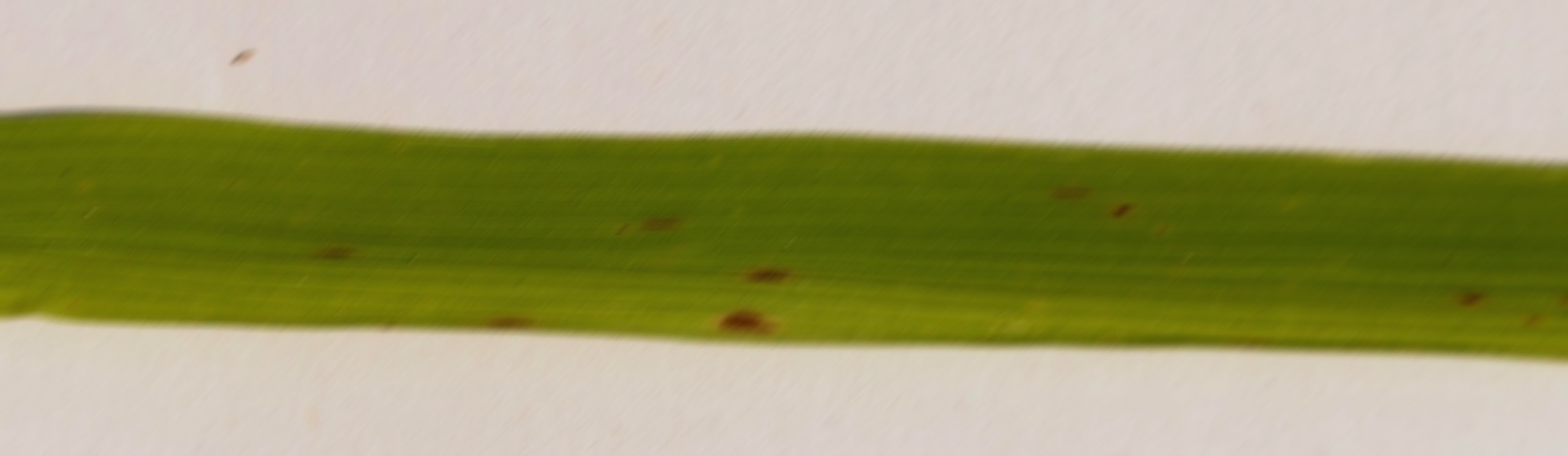Bacterial_Leaf_Blight: (701, 255, 800, 335), (1452, 279, 1508, 315), (1031, 179, 1096, 204), (474, 315, 548, 329), (1111, 197, 1148, 220)
